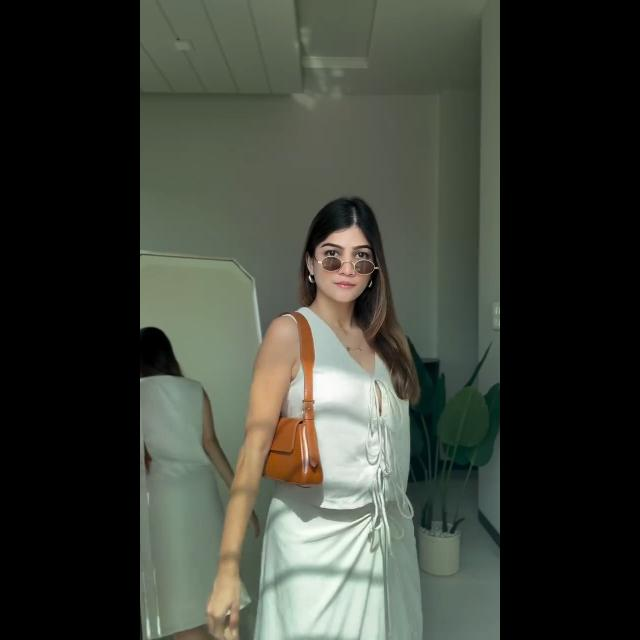dress: (272, 308, 411, 636)
glasses: (318, 256, 378, 274)
handbag: (270, 302, 318, 492)
